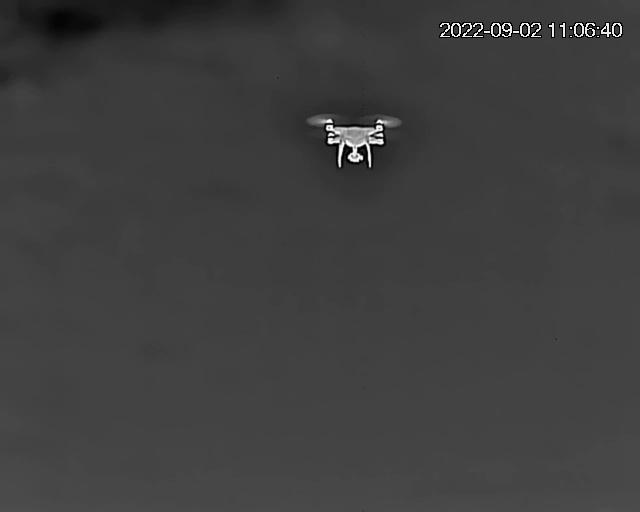DJI-Phantom: (308, 112, 400, 170)
